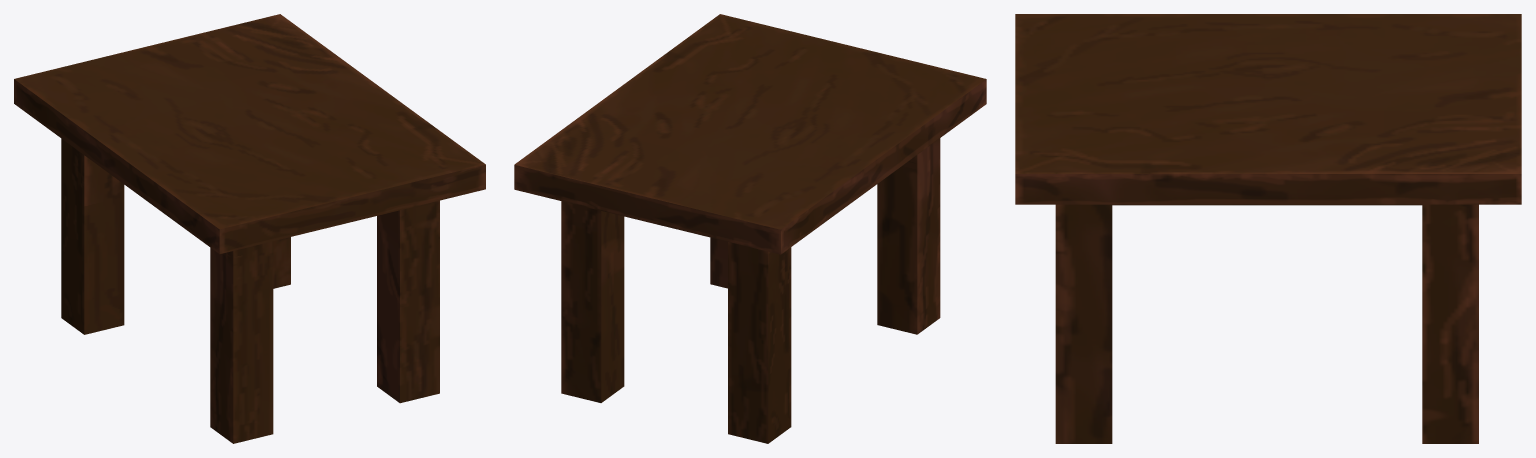
The model's file is Table.glb.
3 renders of one model, left to right at view 1: azimuth 30°, elevation 25°; view 2: azimuth 150°, elevation 25°; view 3: azimuth 270°, elevation 25°, orthographic. The views are drawn at different scales.
Visible parts, largest first — view 1: Table; view 2: Table; view 3: Table.
Part boxes in pixels (x1,y1,x2,y2): Table: (14, 14, 485, 443); Table: (514, 14, 986, 443); Table: (1015, 14, 1521, 443).
Size of the model in its own units: 5.33 by 4.47 by 7.13.
Materials: 1 (1 with a texture image).
